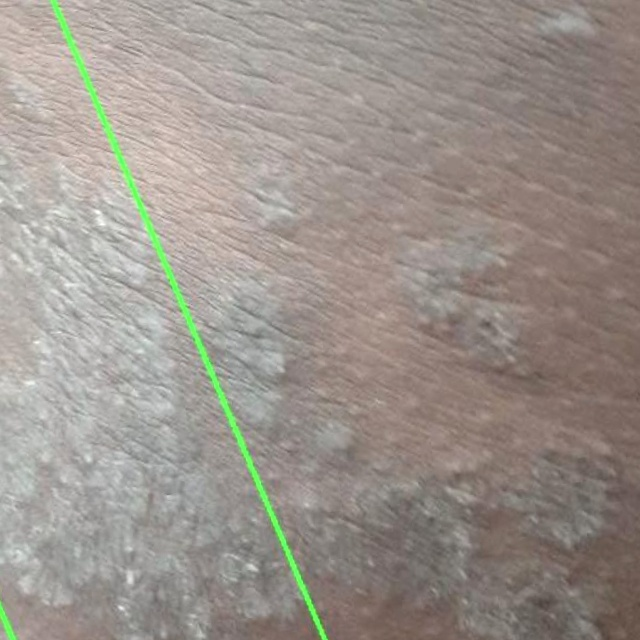Tinea Corporis: (0, 0, 330, 639)
